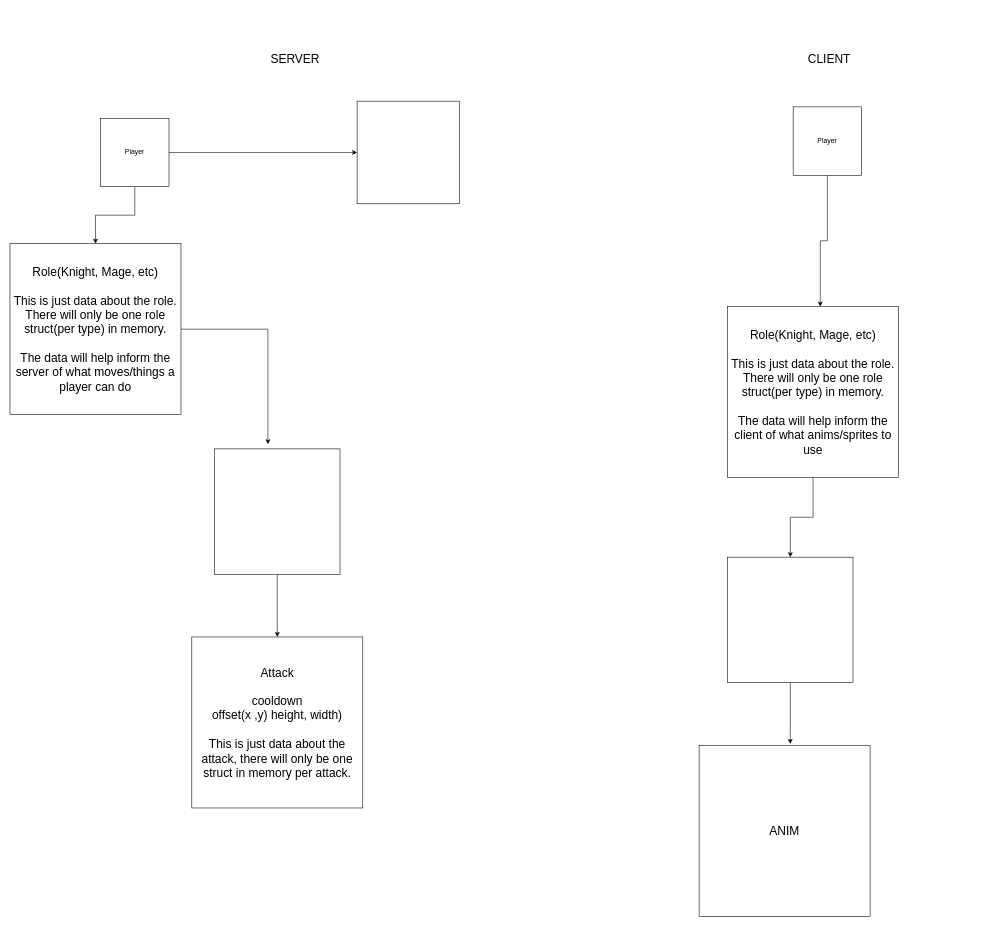
Image size: 1000x926. Some labels were removed from this diagram. The shapes that lost their labels are listed below. From the top down, each one's centre as x and y in pixels, then its label:
pixel 408 152: Current Attack a reference to the current attack, nil means not attacking
pixel 277 511: Attacks String Map of Attack{} For now just primary and alt
pixel 790 620: Anims String Map of Anim{}
